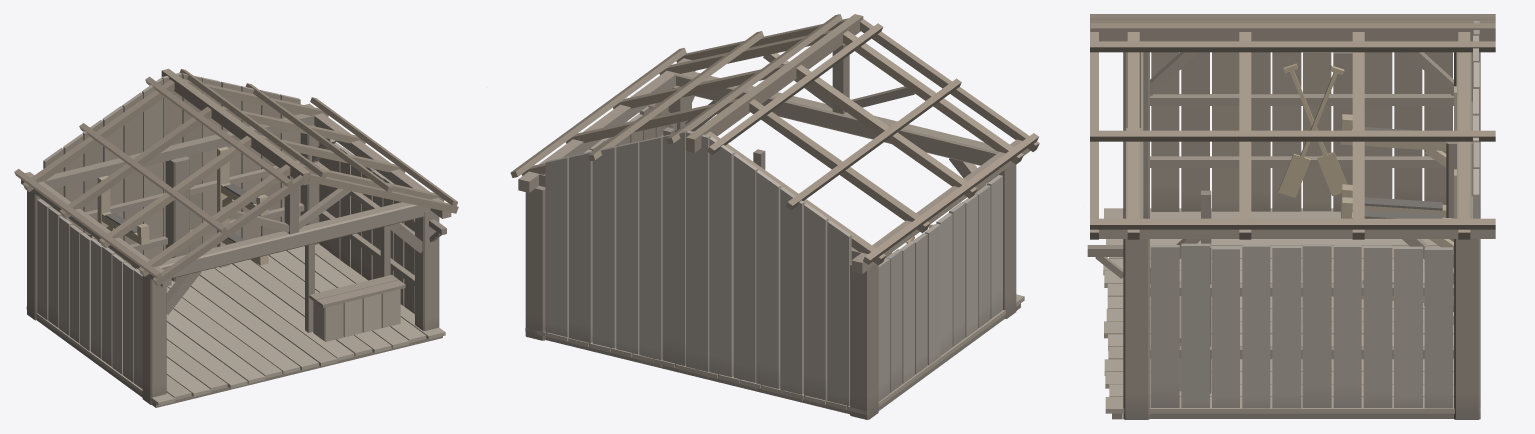
Rendered from Boathouse_wood.glb.
The picture shows the model from 3 angles, left to right: view 1: azimuth 30°, elevation 25°; view 2: azimuth 150°, elevation 25°; view 3: azimuth 270°, elevation 25°; orthographic projection. The views are drawn at different scales.
Parts seen in each view (by area): view 1: Boathouse_wood; view 2: Boathouse_wood; view 3: Boathouse_wood.
Boxes of the visible parts, x1,y1,x2,y2 form: Boathouse_wood: (14, 68, 458, 407); Boathouse_wood: (510, 14, 1039, 419); Boathouse_wood: (1087, 14, 1495, 419).
Bounding box in the file's own units: 17.95 × 11.38 × 14.7.
